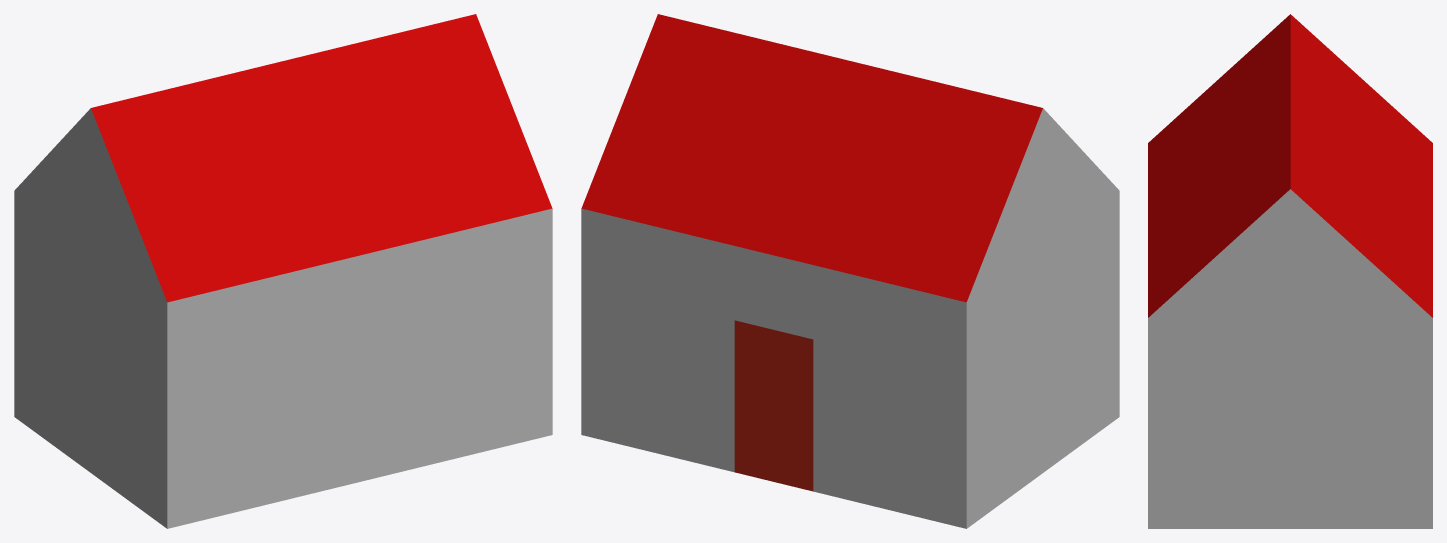
The model's file is house1.obj.
3 renders of one model, left to right at view 1: azimuth 30°, elevation 25°; view 2: azimuth 150°, elevation 25°; view 3: azimuth 270°, elevation 25°, orthographic. The views are drawn at different scales.
Parts seen in each view (by area): view 1: Cube; view 2: Cube; view 3: Cube.
Boxes of the visible parts, x1,y1,x2,y2 form: Cube: (14, 14, 552, 528); Cube: (581, 14, 1119, 528); Cube: (1148, 14, 1432, 528).
Bounding box in the file's own units: 1.96 × 1.77 × 1.34.
